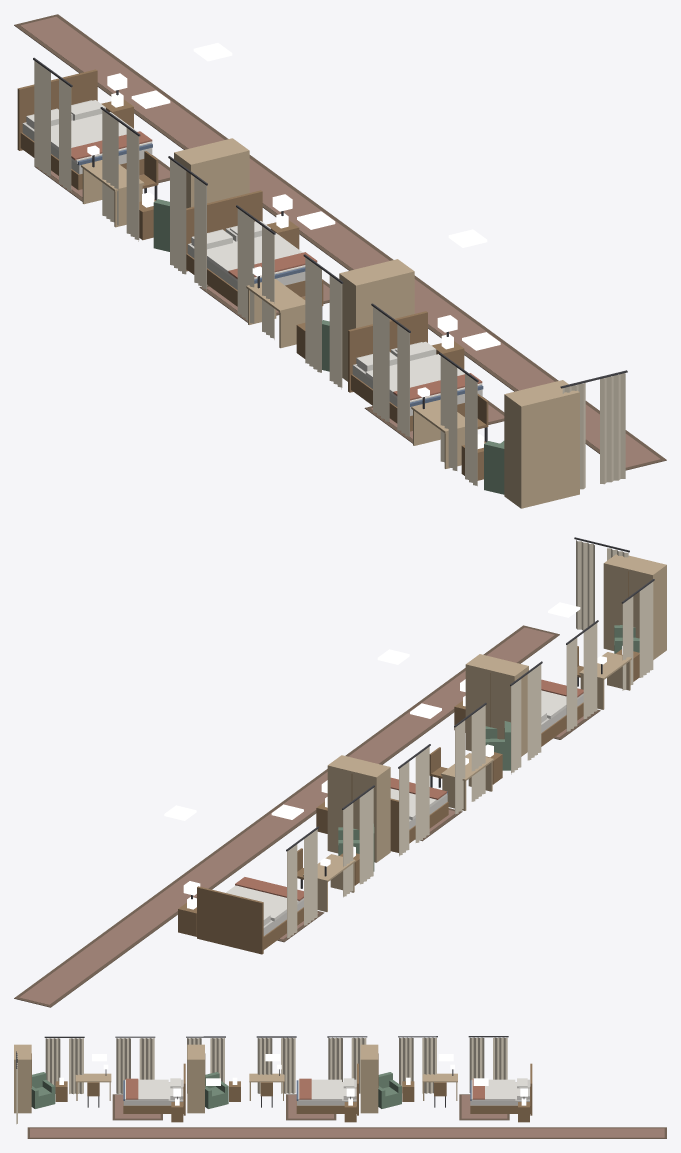
The model's file is fine-s1.glb.
The picture shows the model from 3 angles, top to bottom: view 1: azimuth 30°, elevation 25°; view 2: azimuth 150°, elevation 25°; view 3: azimuth 270°, elevation 25°; orthographic projection. The views are drawn at different scales.
Visible parts, largest first — view 1: soft-s1, dresser.002, dresser.001, bed-frame.001, dresser.000, bed-frame.000, bed-frame.002, writing-desk.001, writing-desk.002, writing-desk.000, lounge-chair.002, lounge-chair.000; view 2: soft-s1, dresser.000, bed-frame.000, dresser.002, dresser.001, writing-desk.002, writing-desk.000, writing-desk.001, bed-frame.001, lounge-chair.001, bed-frame.002; view 3: soft-s1, dresser.000, dresser.001, dresser.002, bed-frame.001, bed-frame.002, bed-frame.000, lounge-chair.002, lounge-chair.000, lounge-chair.001, writing-desk.002, writing-desk.000 (+10 smaller).
Boxes of the visible parts, x1,y1,x2,y2 form: soft-s1: [14, 14, 666, 489]; dresser.002: [504, 380, 579, 508]; dresser.001: [339, 259, 414, 381]; bed-frame.001: [186, 190, 305, 306]; dresser.000: [174, 138, 249, 208]; bed-frame.000: [17, 69, 152, 190]; bed-frame.002: [348, 311, 483, 431]; writing-desk.001: [246, 266, 305, 348]; writing-desk.002: [411, 387, 464, 468]; writing-desk.000: [81, 145, 144, 227]; lounge-chair.002: [484, 441, 504, 494]; lounge-chair.000: [153, 199, 169, 251]; soft-s1: [14, 537, 654, 1007]; dresser.000: [327, 755, 390, 862]; bed-frame.000: [197, 886, 303, 954]; dresser.002: [603, 554, 666, 659]; dresser.001: [465, 654, 528, 756]; writing-desk.002: [579, 652, 631, 709]; writing-desk.000: [303, 854, 355, 911]; writing-desk.001: [441, 753, 493, 810]; bed-frame.001: [390, 791, 448, 852]; lounge-chair.001: [485, 721, 510, 770]; bed-frame.002: [541, 695, 583, 746]; soft-s1: [16, 1036, 666, 1138]; dresser.000: [360, 1044, 378, 1113]; dresser.001: [187, 1044, 205, 1113]; dresser.002: [14, 1044, 31, 1113]; bed-frame.001: [296, 1063, 358, 1115]; bed-frame.002: [123, 1063, 185, 1115]; bed-frame.000: [470, 1063, 532, 1115]; lounge-chair.002: [31, 1072, 55, 1108]; lounge-chair.000: [378, 1072, 401, 1108]; lounge-chair.001: [205, 1072, 228, 1108]; writing-desk.002: [75, 1064, 111, 1100]; writing-desk.000: [422, 1064, 457, 1100].
Bounding box in the file's own units: 3.6 × 2.16 × 22.06.
